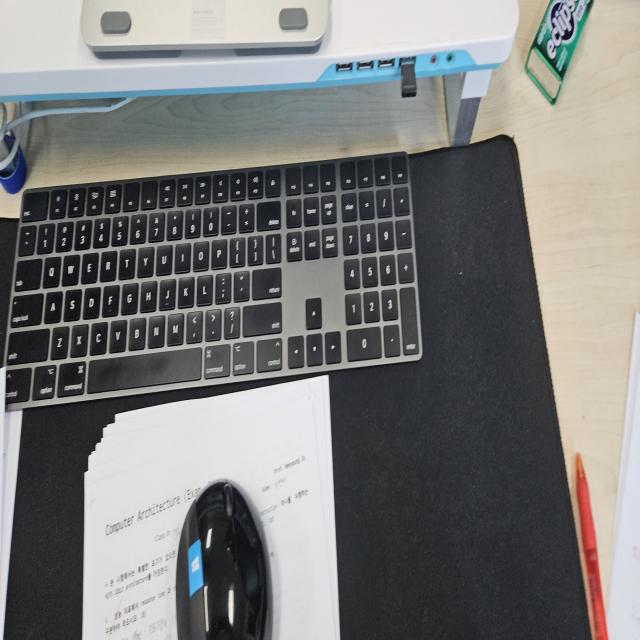Keyboard: (2, 149, 424, 410)
Mouse: (174, 476, 269, 637)
